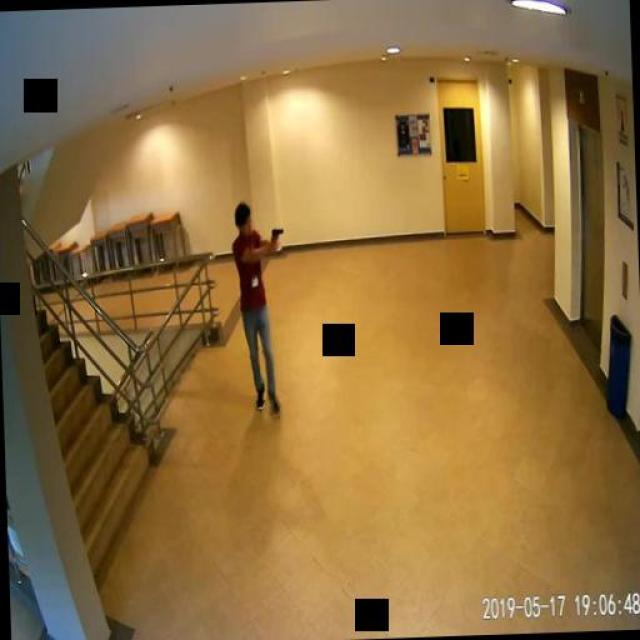gun: (268, 225, 282, 247)
